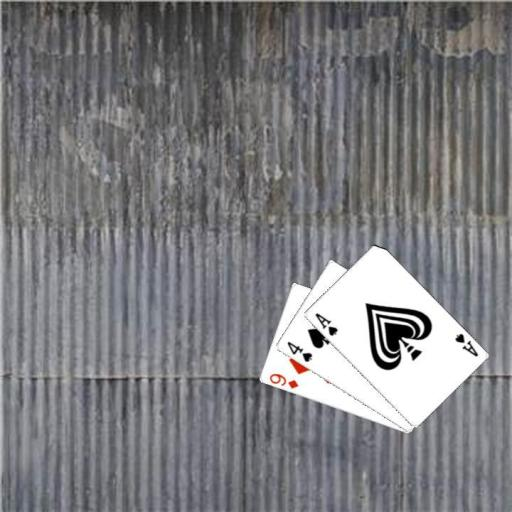4S: (284, 339, 314, 364)
9D: (266, 371, 299, 391)
AS: (451, 330, 479, 358), (312, 309, 339, 338)
